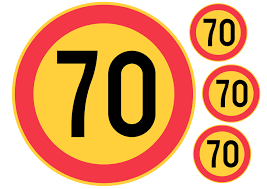Speed_limit_70km: (11, 3, 193, 184), (202, 65, 260, 122), (194, 126, 252, 183), (190, 4, 247, 61)
